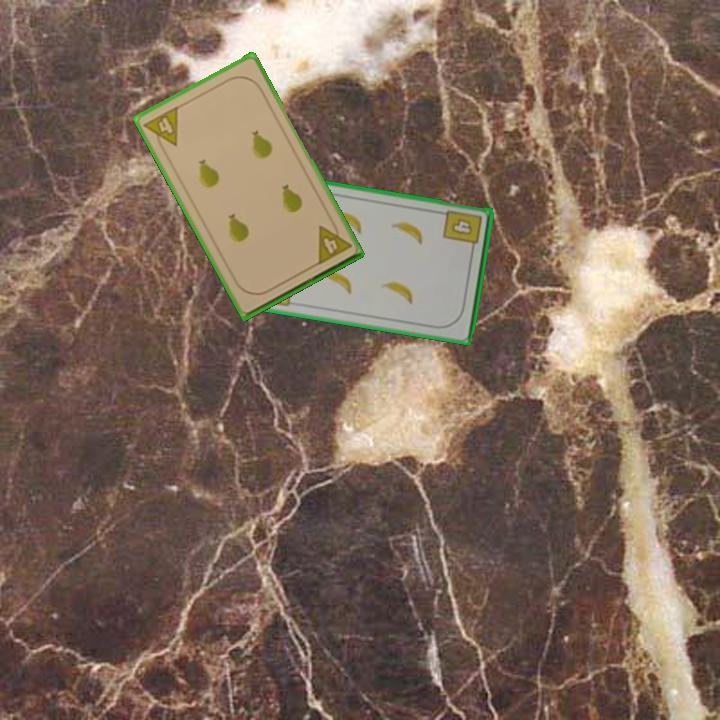4b: (440, 207, 485, 255)
4p: (140, 102, 181, 155), (313, 217, 354, 268)
